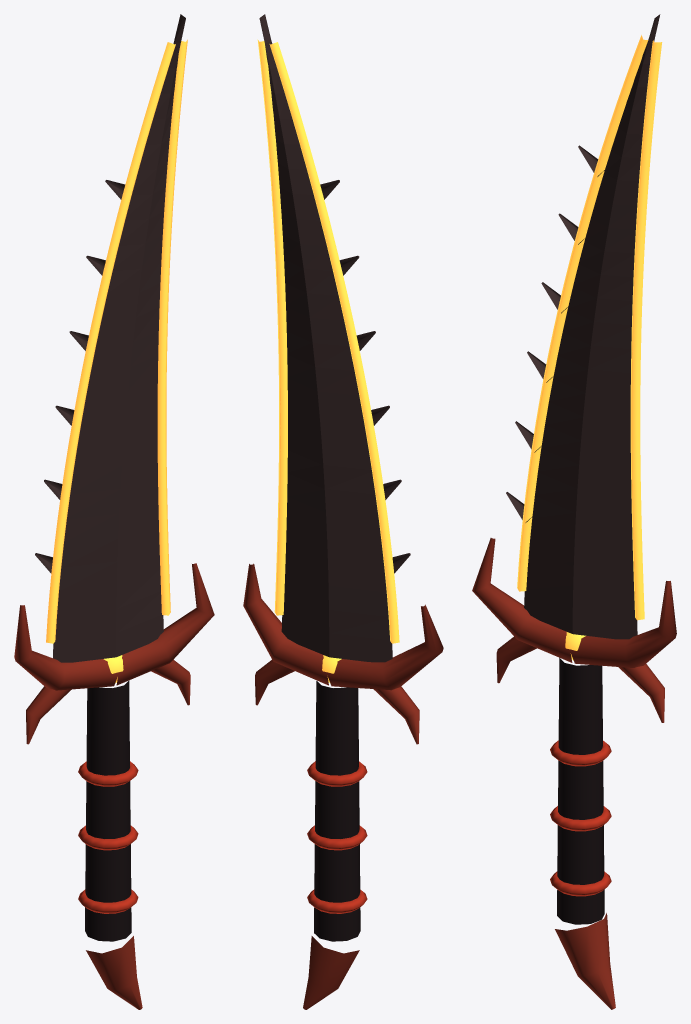
File: dagger_4.glb
3 renders of one model, left to right at view 1: azimuth 30°, elevation 25°; view 2: azimuth 150°, elevation 25°; view 3: azimuth 330°, elevation 25°, orthographic. The views are drawn at different scales.
Visible parts, largest first — view 1: dagger_4; view 2: dagger_4; view 3: dagger_4.
Boxes of the visible parts, bbox=[...] form: dagger_4: bbox=[14, 14, 214, 1009]; dagger_4: bbox=[243, 14, 443, 1009]; dagger_4: bbox=[472, 14, 676, 1009].
Size of the model in its own units: 0.1847 by 0.876 by 0.0478.
